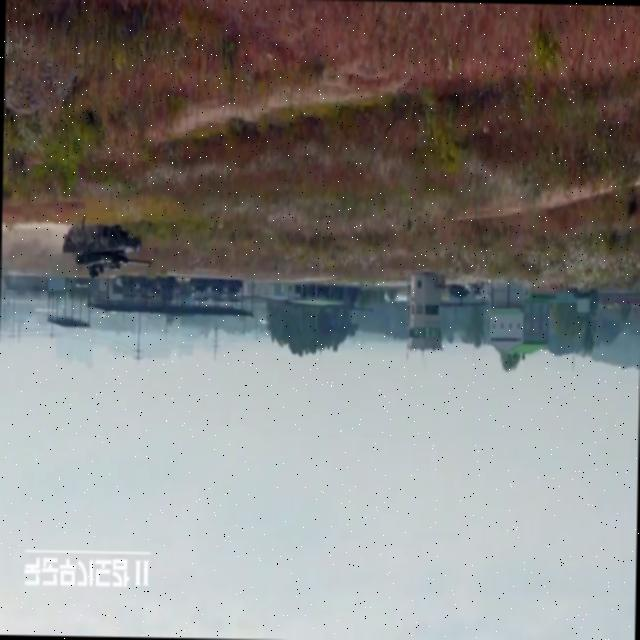korea tank: (60, 218, 154, 284)
